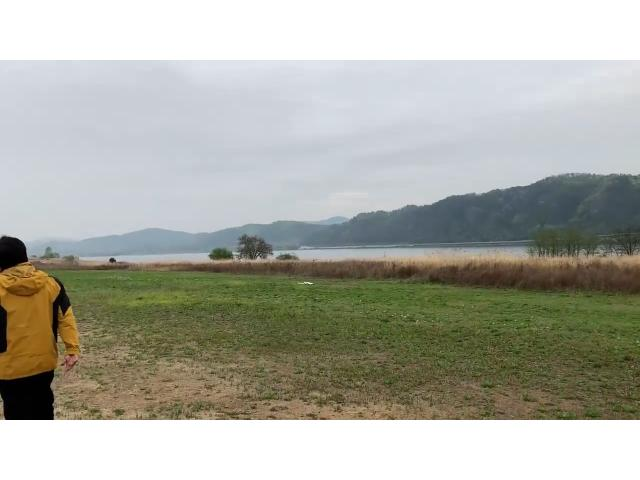Anti-Drone: (288, 272, 326, 292)
